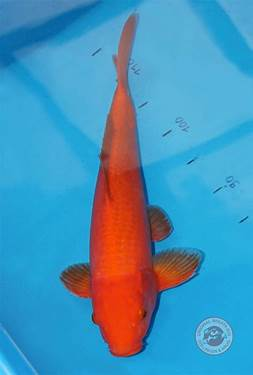red: (60, 11, 202, 358)
